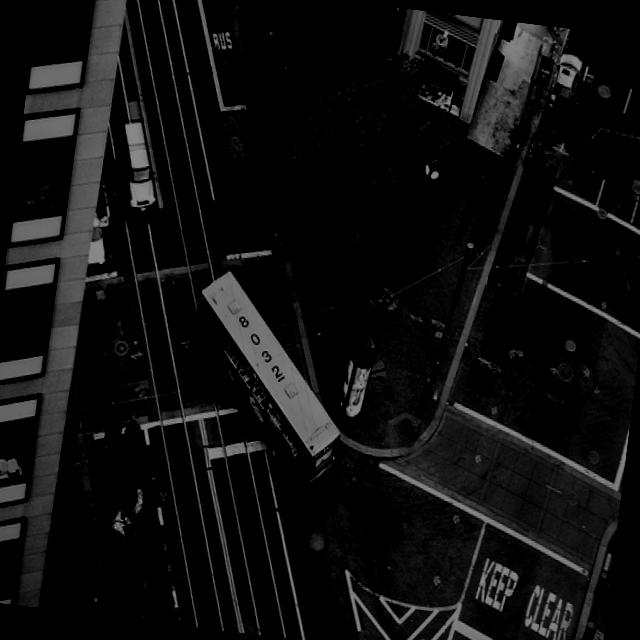Vehicle: (166, 258, 367, 512), (108, 115, 164, 217), (546, 53, 584, 118), (86, 212, 111, 276)
